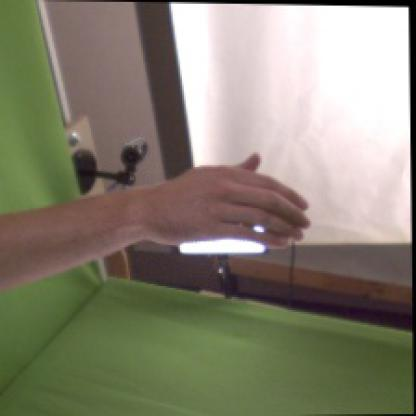Hand: (142, 152, 312, 249)
